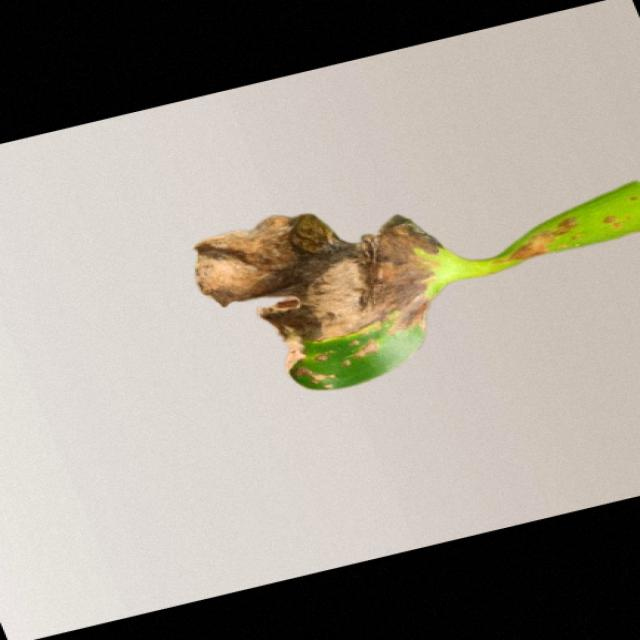daun berpenyakit karat: (195, 182, 638, 390)
